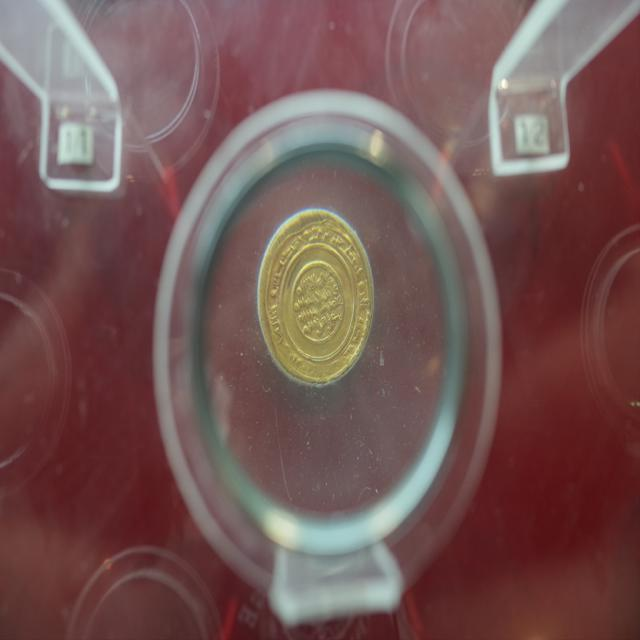Coin: (257, 202, 378, 384)
